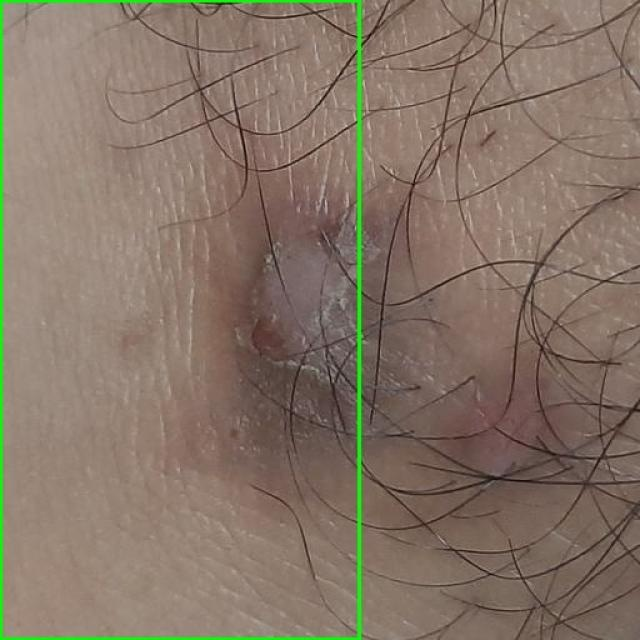Eczema: (0, 0, 359, 639)
